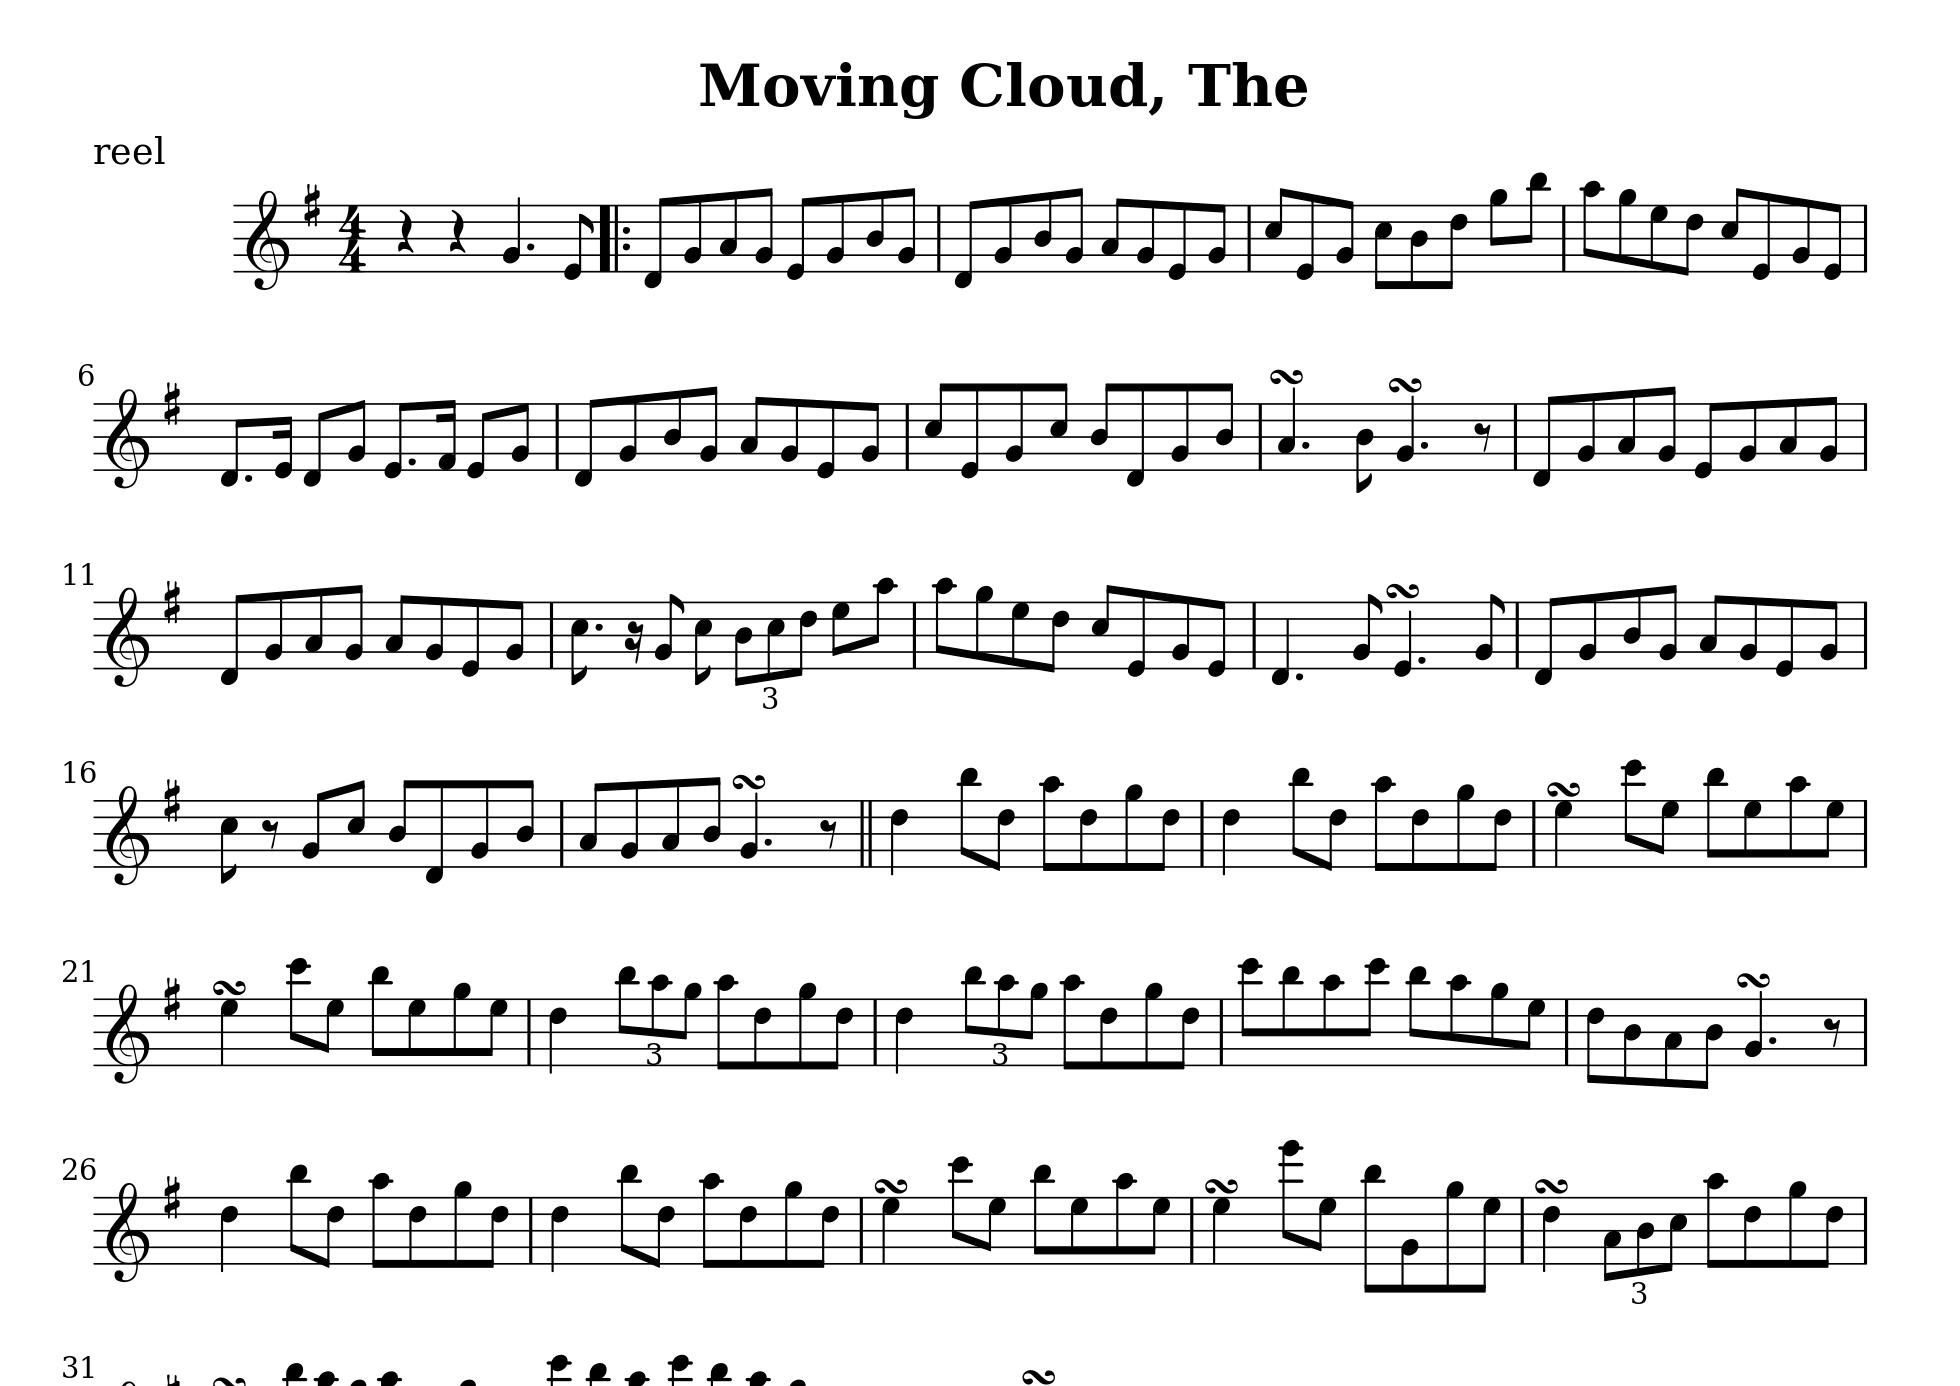1: (61, 559, 76, 589), (79, 559, 94, 589), (61, 756, 76, 786), (79, 957, 94, 985), (79, 1351, 94, 1380)
16_0: (270, 400, 294, 478)
16_1: (433, 397, 457, 472)
2: (58, 1155, 79, 1182), (60, 957, 79, 985)
3: (1629, 1279, 1650, 1305), (645, 1039, 663, 1066), (60, 1351, 78, 1378), (760, 684, 778, 709), (991, 1041, 1008, 1066)
4: (334, 202, 369, 238), (334, 238, 370, 271)
4_-1: (1269, 598, 1293, 685)
4_0: (1392, 598, 1416, 676)
4_2: (499, 193, 523, 274), (1743, 988, 1765, 1068), (1395, 394, 1417, 472), (739, 790, 760, 868)
4_3: (1276, 387, 1297, 472)
4_6: (1539, 1194, 1566, 1275), (892, 996, 916, 1075), (547, 1194, 571, 1273), (888, 796, 910, 876), (217, 1194, 240, 1272), (1221, 796, 1242, 877), (547, 996, 568, 1075)
4_7: (879, 1195, 903, 1266), (1552, 799, 1575, 870), (219, 997, 241, 1066), (1210, 1195, 1233, 1264)
6: (79, 756, 97, 787), (76, 360, 96, 387), (79, 1155, 97, 1182)
8_-1: (640, 195, 673, 289), (1530, 393, 1563, 487), (951, 198, 984, 289), (571, 396, 604, 487), (1533, 595, 1566, 687), (300, 400, 334, 487), (217, 591, 249, 685), (1123, 381, 1149, 489), (421, 778, 447, 886), (217, 400, 249, 487)
8_0: (783, 195, 814, 283), (957, 381, 984, 481), (561, 202, 595, 280), (1692, 400, 1723, 481), (463, 400, 495, 480), (381, 400, 412, 478), (1749, 189, 1774, 282), (813, 397, 840, 481), (1125, 586, 1149, 679), (1294, 190, 1318, 282), (459, 595, 484, 679), (1773, 595, 1798, 679), (1165, 199, 1191, 282), (1821, 199, 1845, 282), (1206, 597, 1230, 679)
8_10: (862, 576, 898, 672), (1038, 772, 1065, 873), (1371, 774, 1398, 873), (1704, 1171, 1731, 1270), (367, 1171, 394, 1269), (1785, 774, 1812, 868), (699, 1171, 724, 1270), (1320, 973, 1347, 1066), (714, 973, 739, 1071), (931, 576, 957, 670), (1447, 973, 1473, 1066), (1113, 1171, 1138, 1264), (1062, 973, 1086, 1071), (1581, 178, 1605, 273), (649, 973, 673, 1066), (996, 973, 1020, 1066)
8_11: (1521, 169, 1552, 274), (1362, 1161, 1386, 1296), (957, 765, 984, 870), (367, 963, 394, 1068), (616, 1161, 643, 1266), (1704, 765, 1731, 868), (1278, 964, 1305, 1066), (286, 1162, 313, 1264), (1290, 765, 1315, 868), (615, 963, 640, 1066), (1030, 1162, 1056, 1266), (961, 964, 987, 1066), (1405, 964, 1431, 1066)
8_12: (1359, 955, 1390, 1066), (1620, 757, 1648, 868), (946, 1153, 973, 1266), (1237, 955, 1264, 1066), (285, 957, 312, 1066)
8_14: (1278, 1138, 1305, 1264)
8_2: (652, 592, 684, 672), (1473, 592, 1504, 672), (300, 787, 330, 868), (1002, 379, 1027, 472), (1350, 592, 1380, 670), (1398, 1194, 1420, 1294), (468, 777, 492, 870), (1168, 381, 1192, 472), (751, 186, 775, 276), (1654, 384, 1678, 474), (823, 192, 849, 274), (619, 778, 642, 870), (1789, 195, 1815, 274), (1168, 592, 1194, 672), (895, 184, 918, 274), (697, 384, 720, 474), (1575, 390, 1599, 474), (1063, 186, 1086, 274), (342, 582, 364, 670), (1657, 583, 1680, 672), (616, 391, 640, 474), (993, 193, 1017, 274), (262, 589, 286, 670), (1576, 591, 1600, 672), (682, 192, 705, 274), (778, 396, 802, 472), (1737, 397, 1761, 472), (1737, 595, 1761, 670), (1206, 201, 1230, 274), (1333, 196, 1356, 274), (1819, 394, 1842, 472), (508, 400, 532, 472), (1135, 198, 1158, 274), (423, 595, 445, 670), (859, 400, 882, 472), (504, 598, 526, 670), (1819, 598, 1842, 670), (346, 397, 367, 472)
8_3: (577, 781, 607, 868), (658, 777, 684, 870), (1099, 196, 1128, 274), (738, 394, 766, 472), (382, 592, 411, 670), (1615, 387, 1641, 474), (717, 189, 742, 274), (1698, 592, 1725, 670), (1662, 996, 1684, 1089), (303, 586, 327, 670), (1600, 1195, 1623, 1282), (765, 598, 786, 682), (1779, 396, 1801, 472)
8_4: (1089, 381, 1119, 472), (387, 778, 417, 868), (1699, 996, 1725, 1090), (1620, 994, 1644, 1086), (1407, 202, 1431, 292), (1353, 400, 1375, 495), (700, 775, 723, 870), (864, 187, 888, 274), (514, 777, 537, 868), (732, 598, 754, 688), (1032, 190, 1056, 274), (661, 388, 685, 472), (1621, 586, 1645, 670), (1215, 379, 1236, 472), (1635, 1195, 1656, 1276)
8_5: (1719, 186, 1750, 274), (922, 381, 952, 472), (1090, 583, 1120, 670), (1264, 184, 1293, 274), (1047, 379, 1071, 474), (1372, 202, 1395, 292), (345, 778, 367, 868), (691, 598, 714, 687), (217, 796, 240, 883), (1665, 1194, 1689, 1273), (568, 598, 589, 687)
8_6: (1440, 202, 1470, 291), (1677, 202, 1705, 279), (1584, 996, 1608, 1084), (1044, 598, 1071, 676), (1486, 798, 1515, 871), (828, 996, 856, 1069), (1174, 996, 1203, 1069), (483, 1195, 511, 1267), (813, 1195, 841, 1267), (990, 798, 1017, 873), (793, 598, 819, 676), (1155, 798, 1182, 871), (319, 1194, 346, 1267), (649, 1194, 676, 1267), (1323, 798, 1348, 873), (1819, 1195, 1845, 1270), (1740, 1195, 1764, 1270), (1098, 994, 1120, 1069), (736, 1194, 759, 1269), (1077, 798, 1099, 871), (1410, 798, 1431, 871), (751, 996, 772, 1069), (406, 1194, 427, 1267)
8_7: (1471, 1195, 1501, 1294), (1654, 798, 1683, 868), (1819, 798, 1848, 868), (319, 996, 346, 1066), (1521, 996, 1548, 1066), (981, 1195, 1008, 1264), (1146, 1195, 1173, 1264), (483, 997, 508, 1066), (1312, 1195, 1338, 1264), (1647, 202, 1669, 274), (1008, 600, 1030, 670), (1741, 798, 1764, 868), (405, 996, 427, 1066), (1068, 1194, 1090, 1264), (829, 600, 850, 670)
8_9: (1443, 1179, 1465, 1294), (1785, 1179, 1809, 1270), (1024, 981, 1050, 1066), (1122, 781, 1146, 871), (678, 982, 703, 1066), (972, 585, 996, 670), (1488, 981, 1512, 1066), (1455, 783, 1477, 871), (781, 1179, 804, 1267), (1488, 187, 1510, 274), (1615, 187, 1638, 274), (450, 981, 472, 1066), (796, 981, 817, 1069), (1143, 981, 1164, 1069), (451, 1179, 472, 1267)
Double_barline: (853, 798, 877, 867)
Gclef: (103, 385, 151, 489), (103, 583, 151, 687), (244, 187, 291, 291), (103, 781, 150, 885), (106, 982, 150, 1084), (106, 1180, 150, 1282)
LeftRepeatSign: (597, 204, 631, 271)
Rests16: (622, 618, 645, 664)
Rests4: (445, 207, 468, 253), (394, 207, 415, 255)
Rests8: (1473, 418, 1495, 454), (817, 816, 840, 850), (1822, 1014, 1845, 1048), (259, 816, 282, 847)
Sharp: (160, 379, 184, 433), (160, 577, 183, 625), (301, 181, 322, 229), (162, 777, 181, 823), (163, 976, 181, 1021), (163, 1174, 181, 1219)
Single_barline: (1212, 997, 1231, 1066), (1506, 402, 1525, 469), (865, 997, 885, 1065), (1857, 601, 1875, 670), (1857, 799, 1875, 868), (553, 799, 571, 867), (520, 997, 538, 1065), (1183, 1195, 1201, 1263), (898, 403, 916, 469), (1194, 799, 1212, 865), (522, 1195, 540, 1261), (1857, 204, 1873, 273), (1246, 600, 1263, 669), (931, 204, 948, 271), (1252, 402, 1269, 469), (853, 1195, 870, 1263), (543, 601, 559, 667), (906, 601, 922, 667), (1527, 799, 1543, 865), (1858, 402, 1873, 471), (1510, 600, 1525, 667), (1557, 204, 1572, 270), (550, 403, 565, 469)
Slur: (1854, 997, 1878, 1066), (1854, 1194, 1876, 1264), (1515, 1195, 1536, 1263)
TimeSig: (336, 204, 369, 274)
Turn: (730, 769, 766, 790), (211, 976, 247, 997), (873, 1174, 909, 1195), (1203, 1174, 1239, 1195), (1270, 364, 1303, 387), (1737, 967, 1770, 990), (1545, 778, 1582, 798), (1386, 579, 1420, 600), (1534, 1174, 1569, 1195), (1389, 373, 1422, 394), (1021, 1366, 1059, 1384)
dot: (1299, 438, 1312, 450), (592, 619, 604, 633), (1419, 438, 1431, 450), (405, 454, 417, 466), (241, 471, 253, 483), (1416, 652, 1428, 664), (1293, 669, 1305, 681), (762, 835, 774, 847), (1767, 1033, 1779, 1045), (525, 241, 535, 253)
